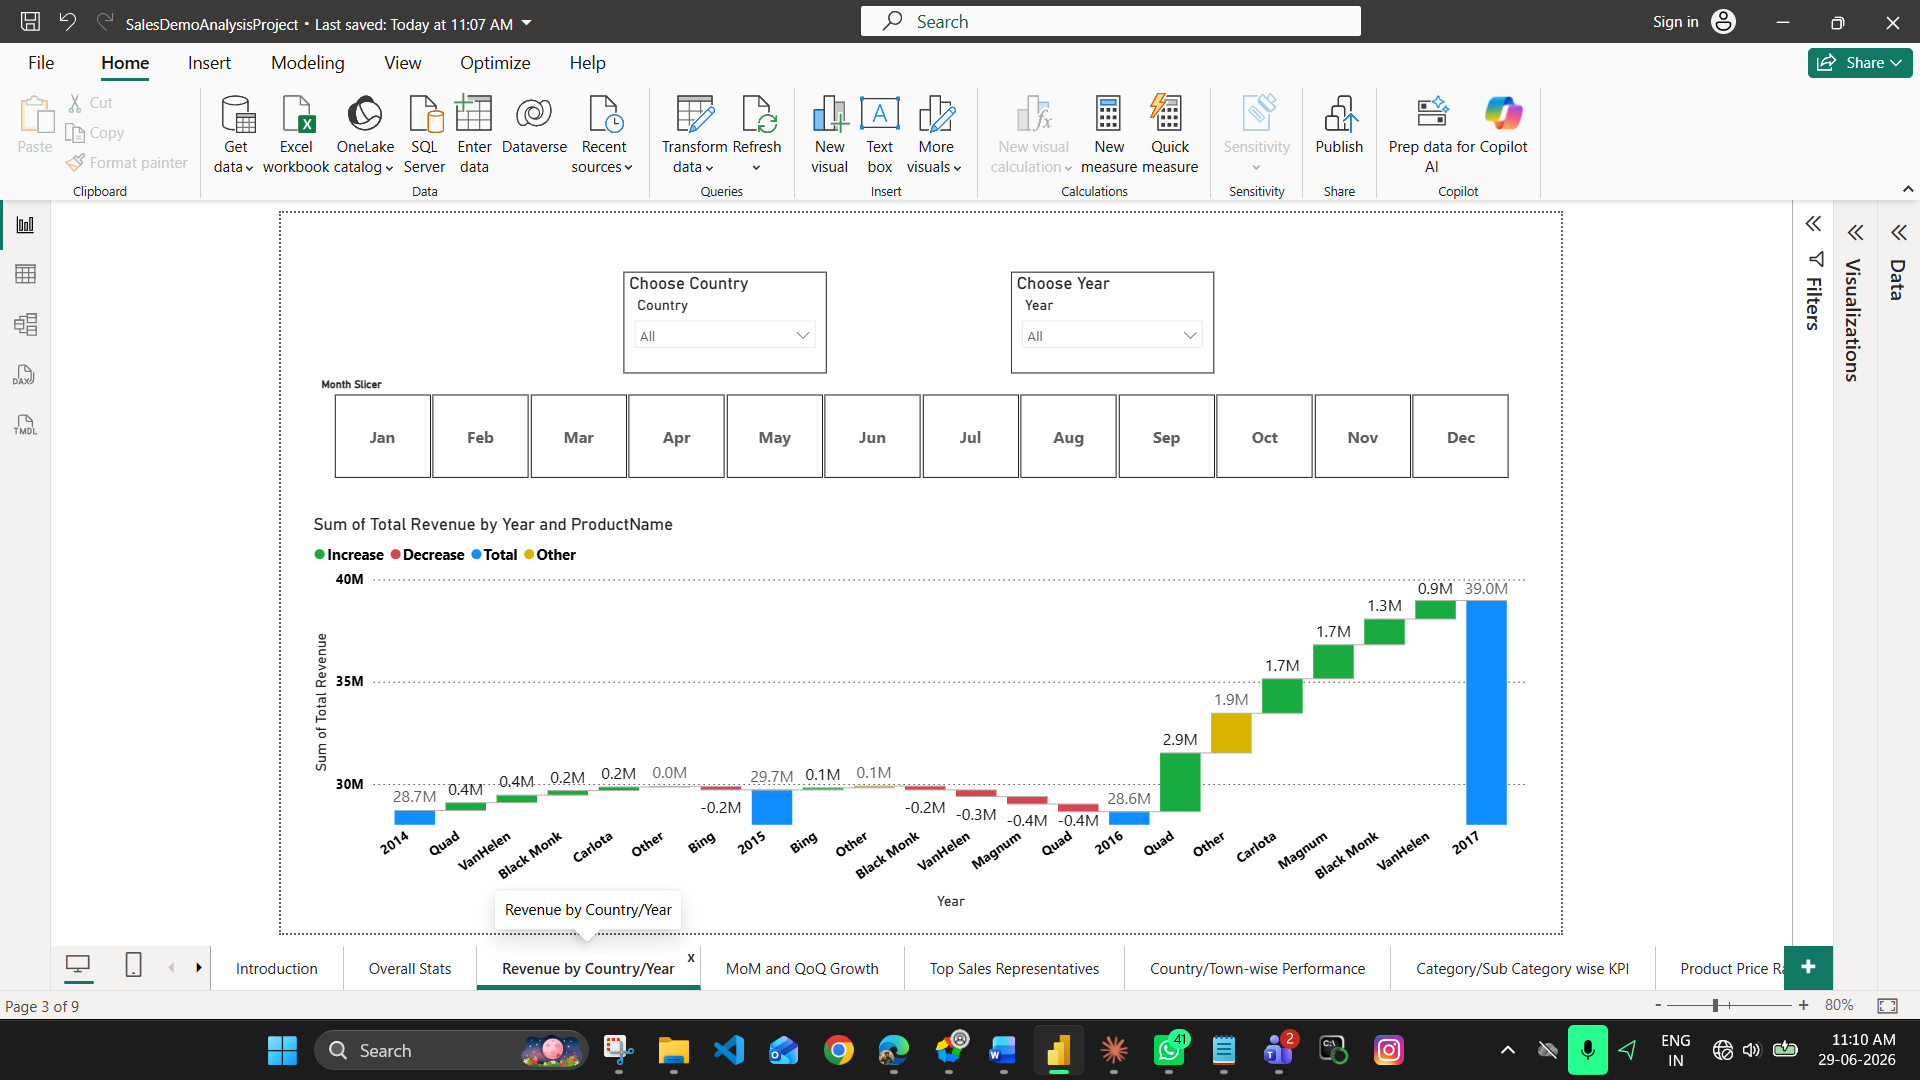

This screenshot's page, from the dashboard's own definition file:
{"tool":"powerbi","page":{"name":"Revenue by Country/Year","canvas":[1280,720],"ordinal":2},"visuals":[{"type":"slicer","fields":{"Values":["CalendarMaster.MonthName"]},"box":[27.1,160,1224.3,111.4],"z":0},{"type":"slicer","title":"Choose Country","fields":{"Values":["DimGeography.Country"]},"box":[342.9,58.6,202.9,101.4],"z":1000},{"type":"slicer","title":"Choose Year","fields":{"Values":["CalendarMaster.Year"]},"box":[730,58.6,202.9,101.4],"z":2000},{"type":"waterfallChart","fields":{"Category":["CalendarMaster.Year"],"Y":["Sum(FactSales.Total Revenue)"],"Breakdown":["DimProducts.ProductName"]},"box":[27.1,301.4,1224.3,400],"z":3000}]}

Visuals, with their boxes on the page's 1280x720 design canvas (x1, y1, x2, y2). These are canvas units, not pixel positions in the 1920x1080 screenshot, which may show the page scaled, cropped or inside an application window:
slicer - CalendarMaster.MonthName: 27/160/1251/271
"Choose Country" slicer: 343/59/546/160
"Choose Year" slicer: 730/59/933/160
waterfallChart - CalendarMaster.Year x Sum(FactSales.Total Revenue): 27/301/1251/701
